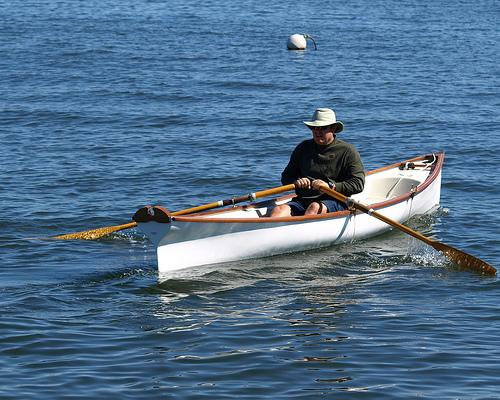person: (267, 108, 366, 219)
